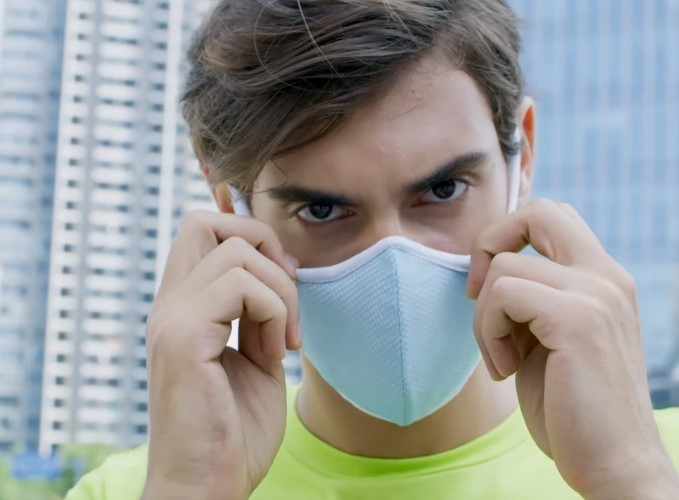face_with_mask: (198, 0, 542, 428)
